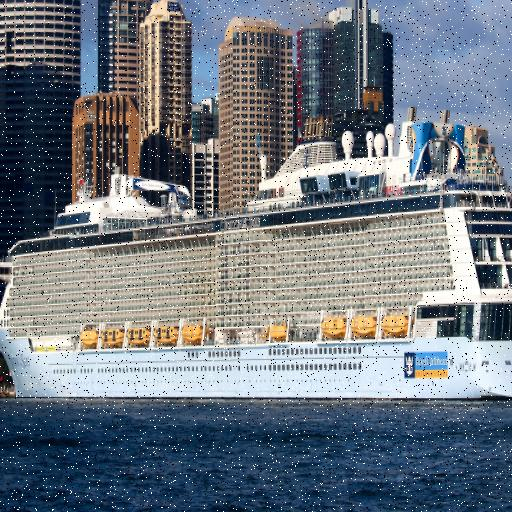cruises: (1, 104, 512, 411)
